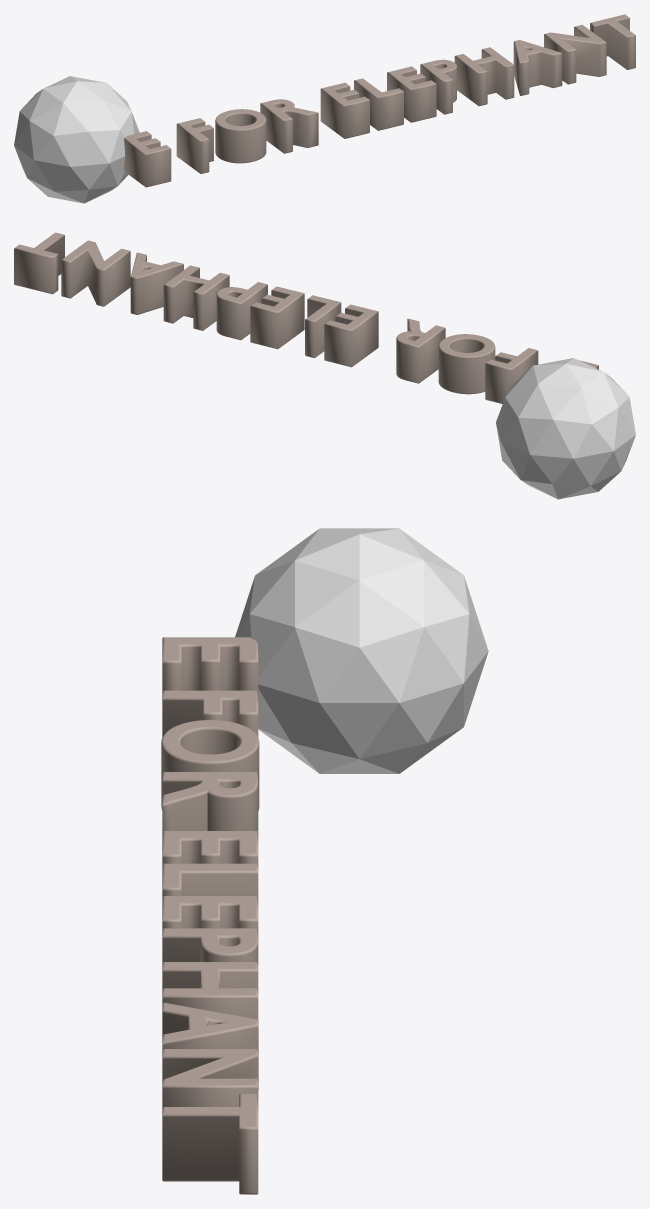
The model's file is ELEPHANT TEXT.fbx.
3 views of the same model, one above another, from view 1: azimuth 30°, elevation 25°; view 2: azimuth 150°, elevation 25°; view 3: azimuth 270°, elevation 25° (orthographic). The views are drawn at different scales.
Parts seen in each view (by area): view 1: Text.001, Icosphere; view 2: Text.001, Icosphere; view 3: Text.001, Icosphere.
Boxes of the visible parts, box(x1,y1,x2,y2) form: Text.001: box(123, 14, 635, 187); Icosphere: box(14, 76, 139, 203); Text.001: box(14, 232, 598, 403); Icosphere: box(496, 358, 635, 499); Text.001: box(161, 637, 259, 1194); Icosphere: box(235, 528, 488, 773).
Bounding box in the file's own units: 1030 × 200 × 254.
